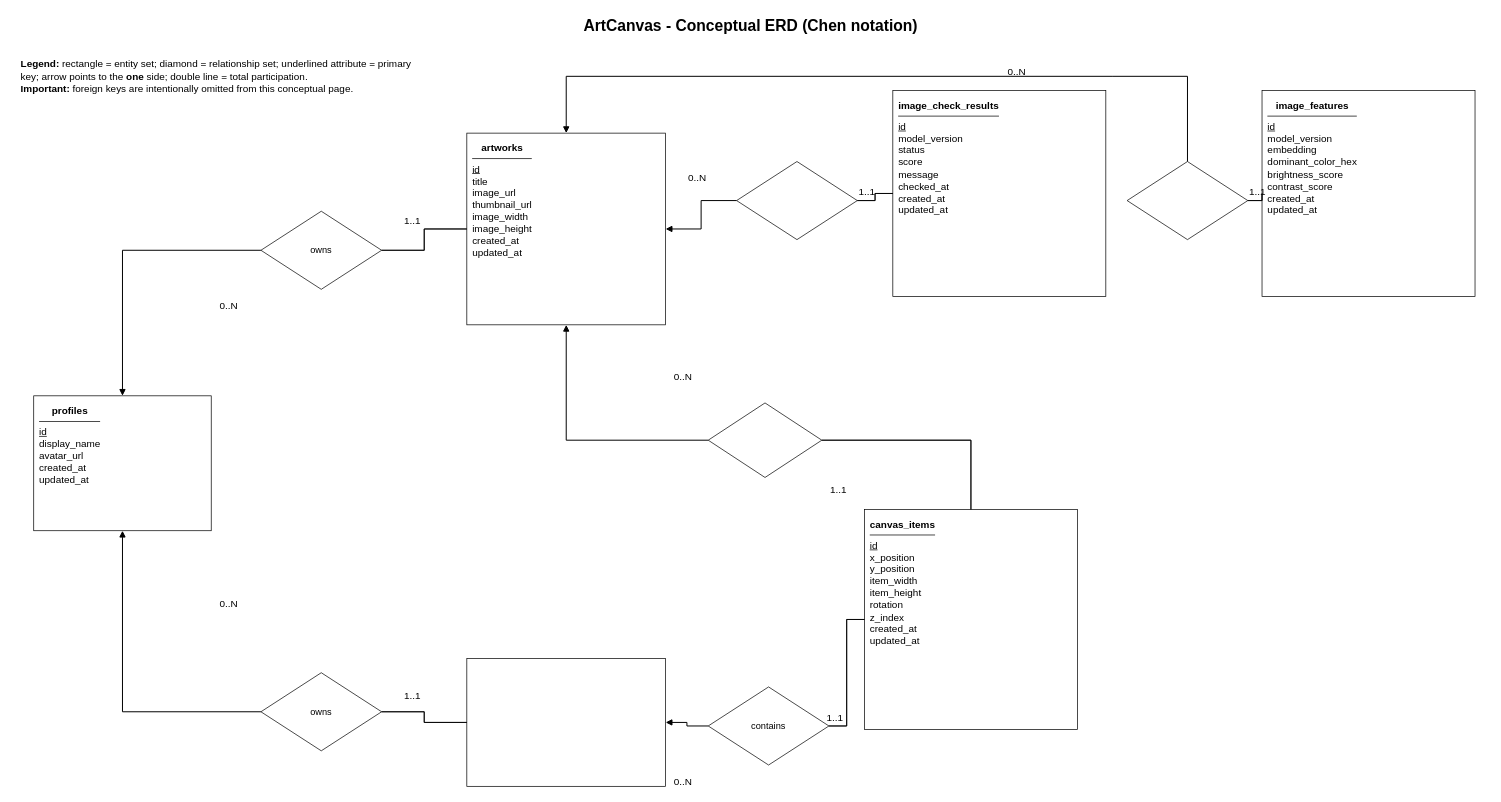
Some shapes in this 1501 by 802 pixel diagram are drawn without their labels. Each missing label, with the centre of its shape:
canvases id name created_at updated_at: (566,722)
checks: (796,200)
extracts: (1187,200)
uses: (765,439)
